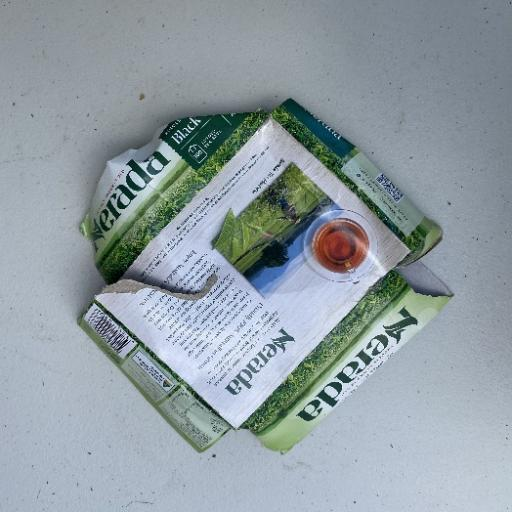Cardboard: (76, 98, 454, 455)
